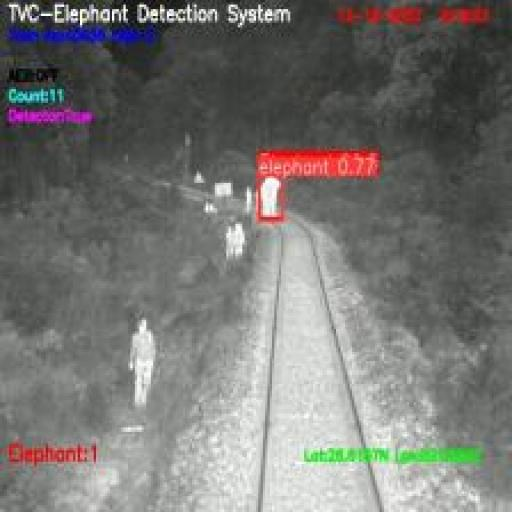Elephant: (258, 176, 282, 221)
